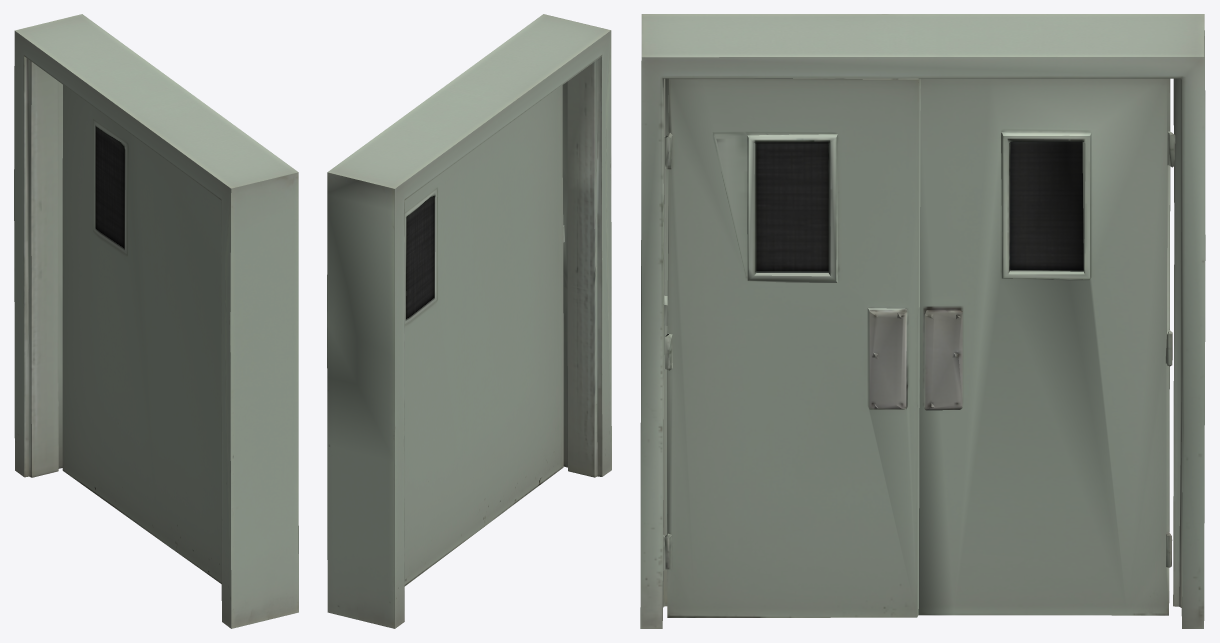
The picture shows the model from 3 angles, left to right: view 1: azimuth 30°, elevation 25°; view 2: azimuth 150°, elevation 25°; view 3: azimuth 270°, elevation 25°; orthographic projection. The views are drawn at different scales.
Parts seen in each view (by area): view 1: repaired; view 2: repaired; view 3: repaired.
Boxes of the visible parts, x1=… form: repaired: x1=14, y1=14, x2=298, y2=628; repaired: x1=327, y1=14, x2=611, y2=628; repaired: x1=640, y1=14, x2=1205, y2=628.
Bounding box in the file's own units: 0.1623 × 1 × 0.8937.
